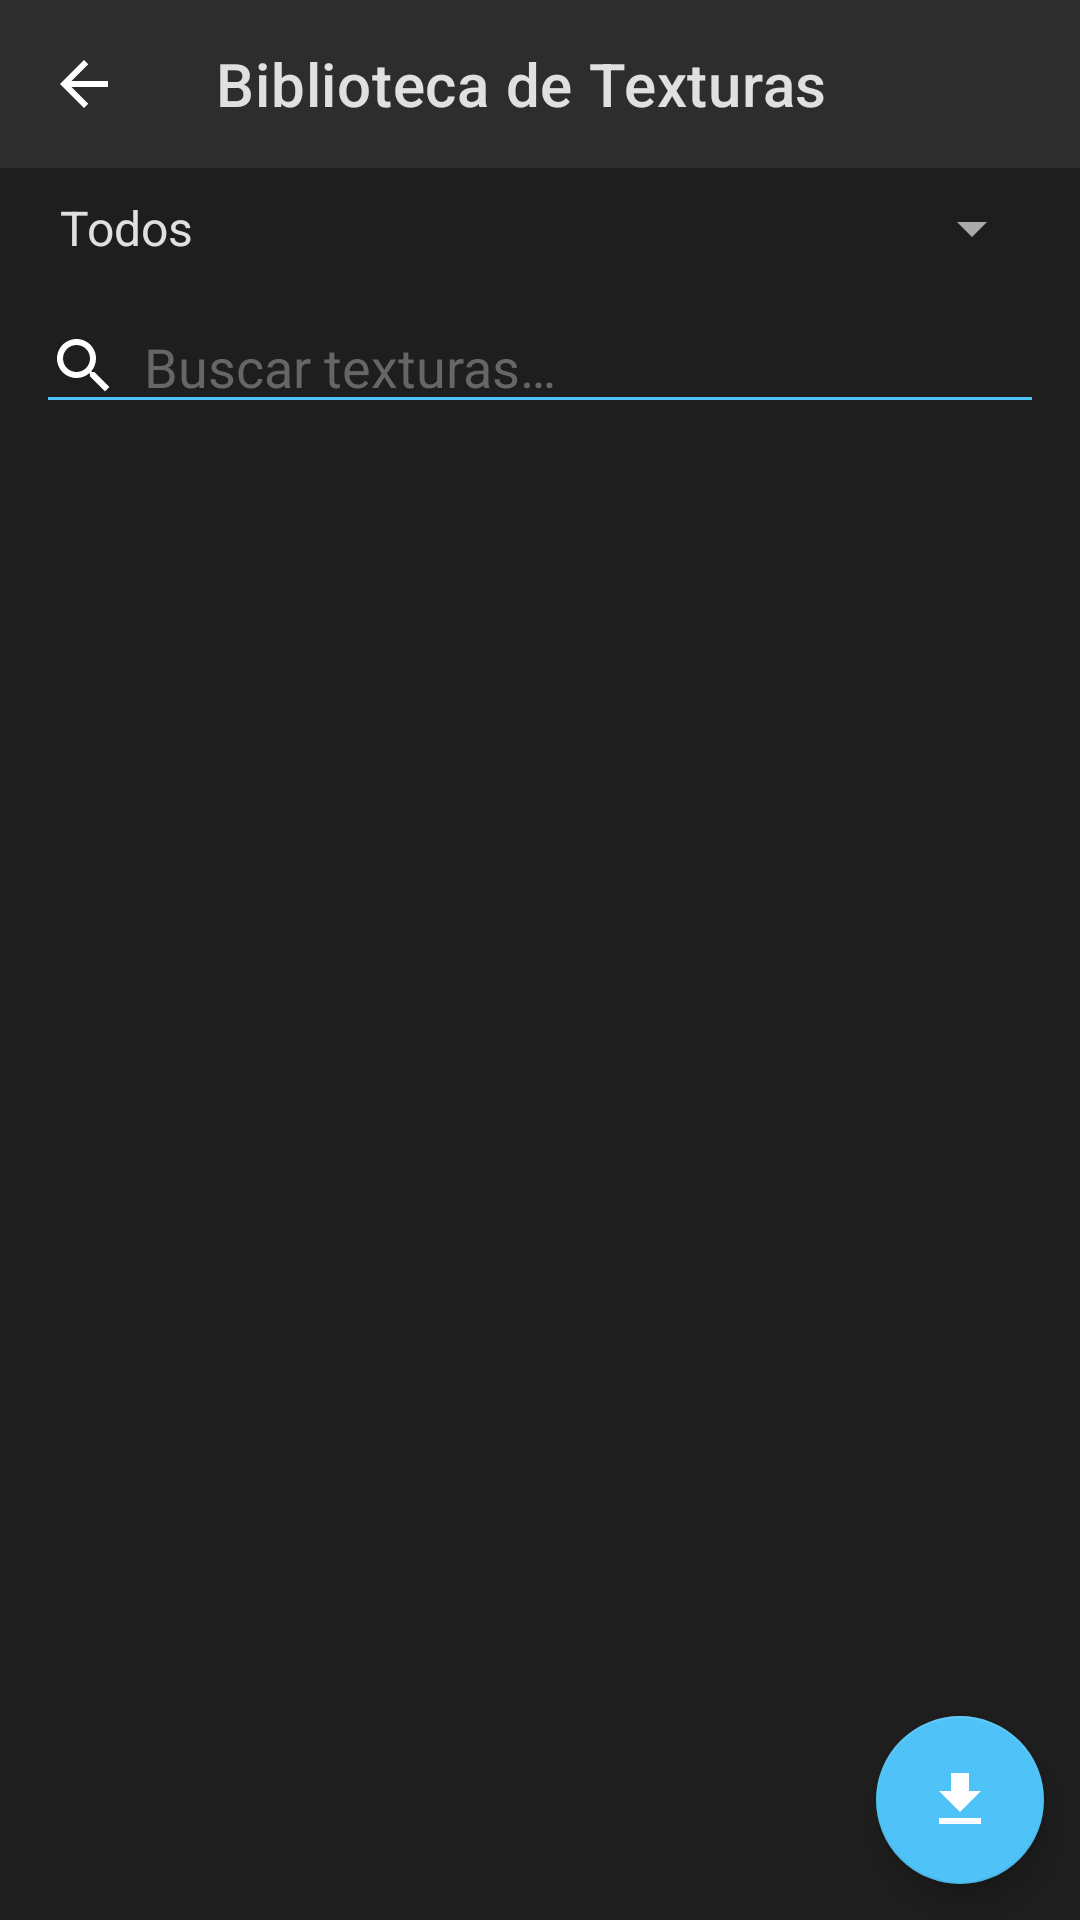

Icon click points for this 1080x1920 phone screenshot, format (x,y):
Importar Textura: (960,1800)
